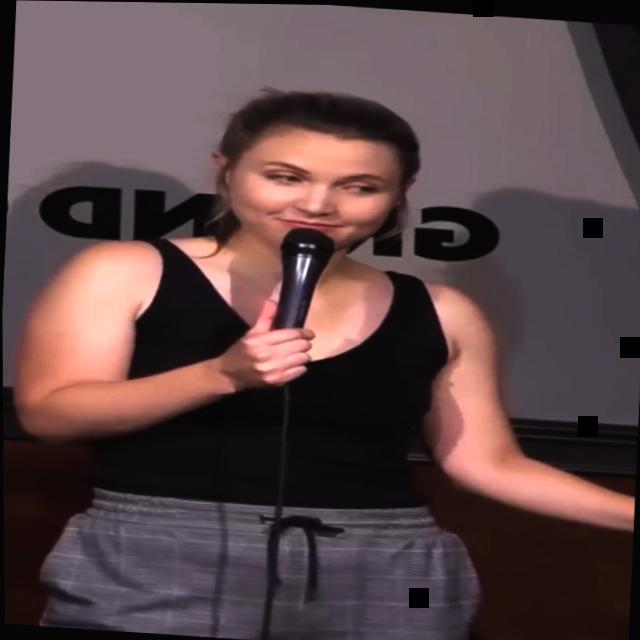NO-Mask: (210, 128, 420, 265)
